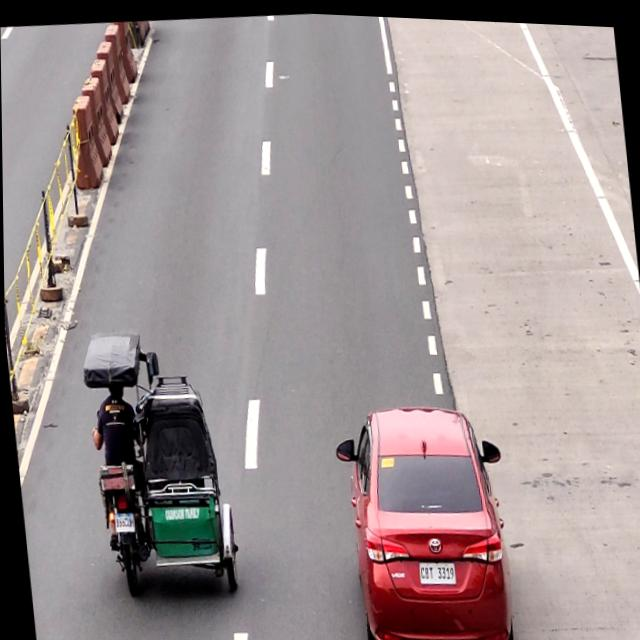Car: (341, 398, 515, 640)
License-Plate: (415, 553, 455, 587), (111, 511, 134, 528)
Tricycle: (80, 322, 240, 602)
